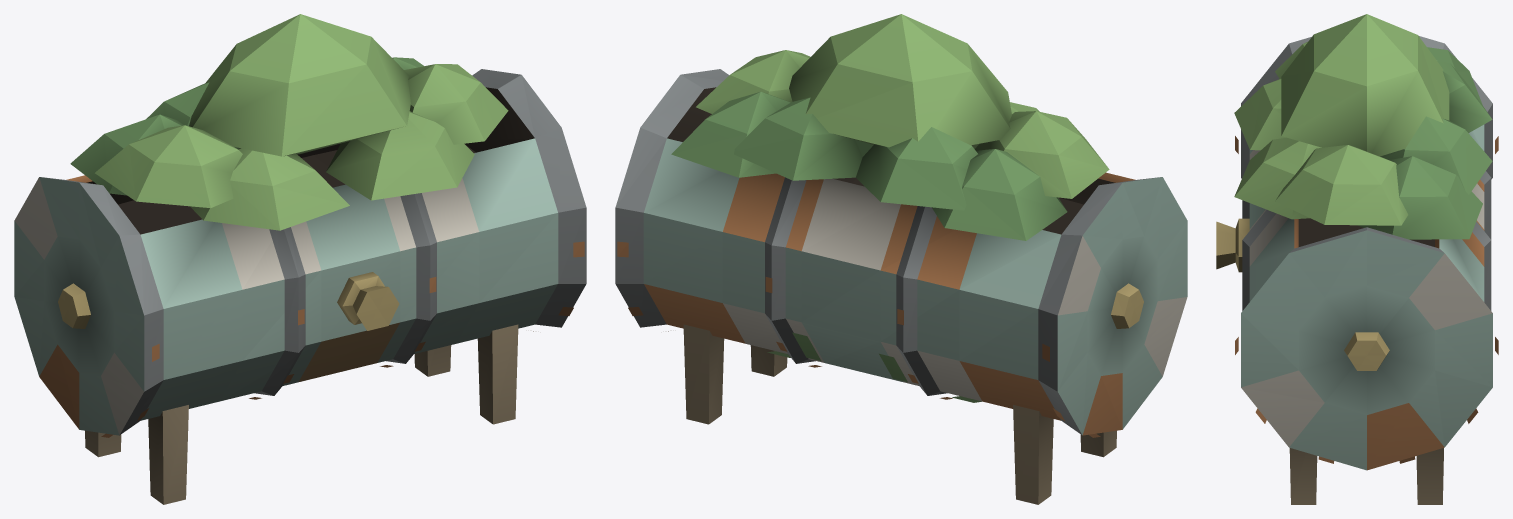
Rendered from drum.glb.
3 views of the same model, side by side, from view 1: azimuth 30°, elevation 25°; view 2: azimuth 150°, elevation 25°; view 3: azimuth 270°, elevation 25° (orthographic). The views are drawn at different scales.
Parts seen in each view (by area): view 1: drum; view 2: drum; view 3: drum.
Part boxes in pixels (x1=…): drum: x1=14, y1=14, x2=586, y2=504; drum: x1=615, y1=14, x2=1187, y2=504; drum: x1=1216, y1=14, x2=1498, y2=504.
Size of the model in its own units: 0.973 by 0.8381 by 0.5264.
